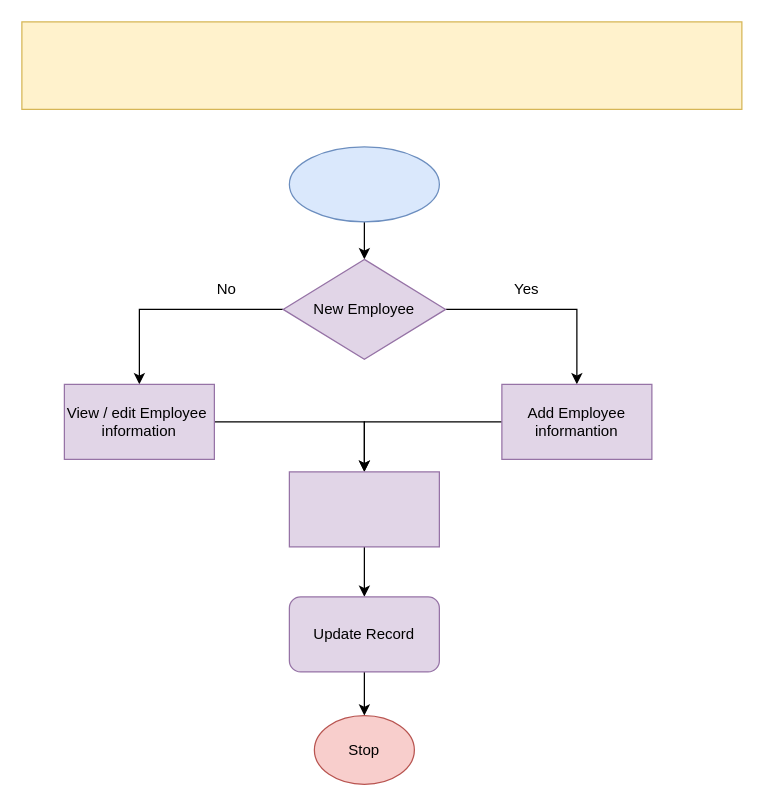
Some shapes in this 764 by 806 pixel diagram are drawn without their labels. The shapes that lost their labels are listed below. From the top down, each one's centre as x and y in pixels, then its label:
At point 381,65: "Information management flow chart".
At point 363,184: "Start".
At point 363,509: "Employee lists".
